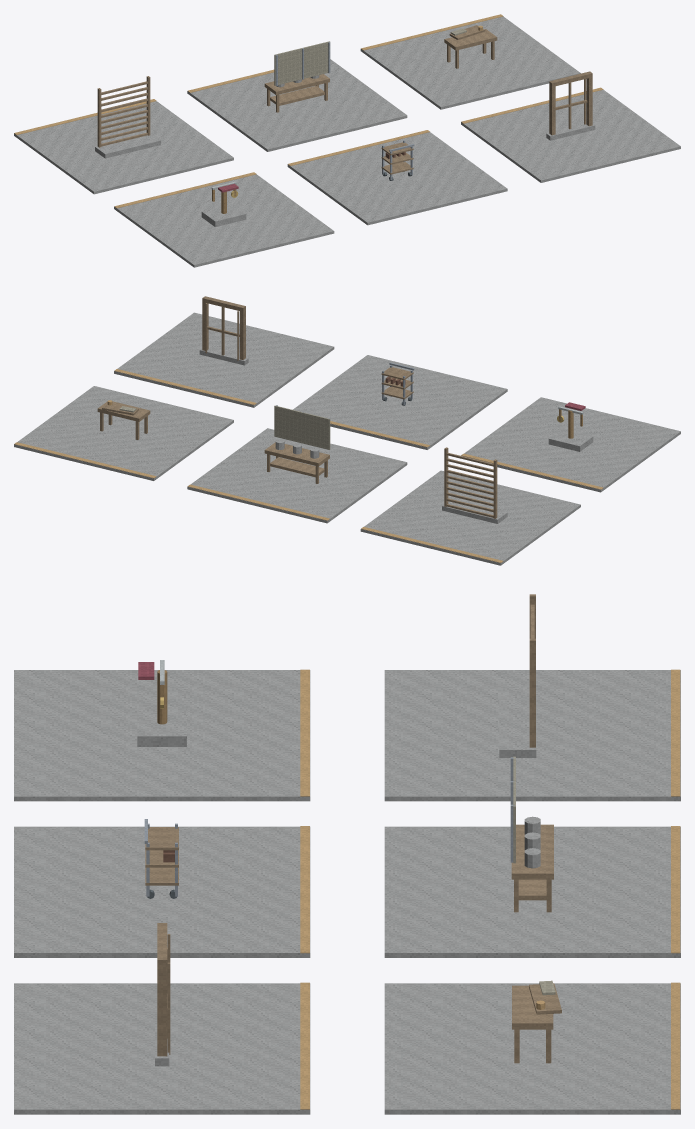
The model's file is level_blockout_kit_academy_p03.glb.
The picture shows the model from 3 angles, top to bottom: view 1: azimuth 30°, elevation 25°; view 2: azimuth 150°, elevation 25°; view 3: azimuth 270°, elevation 25°; orthographic projection. The views are drawn at different scales.
Visible parts, largest first — view 1: level_blockout_kit_academy_p03; view 2: level_blockout_kit_academy_p03; view 3: level_blockout_kit_academy_p03.
Boxes of the visible parts, <box> form: level_blockout_kit_academy_p03: <box>14,14,680,267</box>; level_blockout_kit_academy_p03: <box>14,296,680,565</box>; level_blockout_kit_academy_p03: <box>14,594,680,1114</box>.
Bounding box in the file's own units: 19.65 × 2.51 × 12.6.
Materials: 11 (11 with a texture image).
